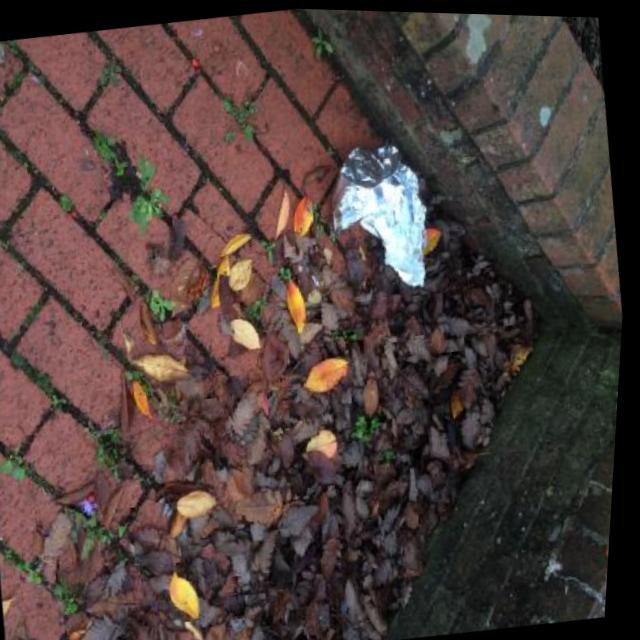metal: (315, 133, 441, 300)
